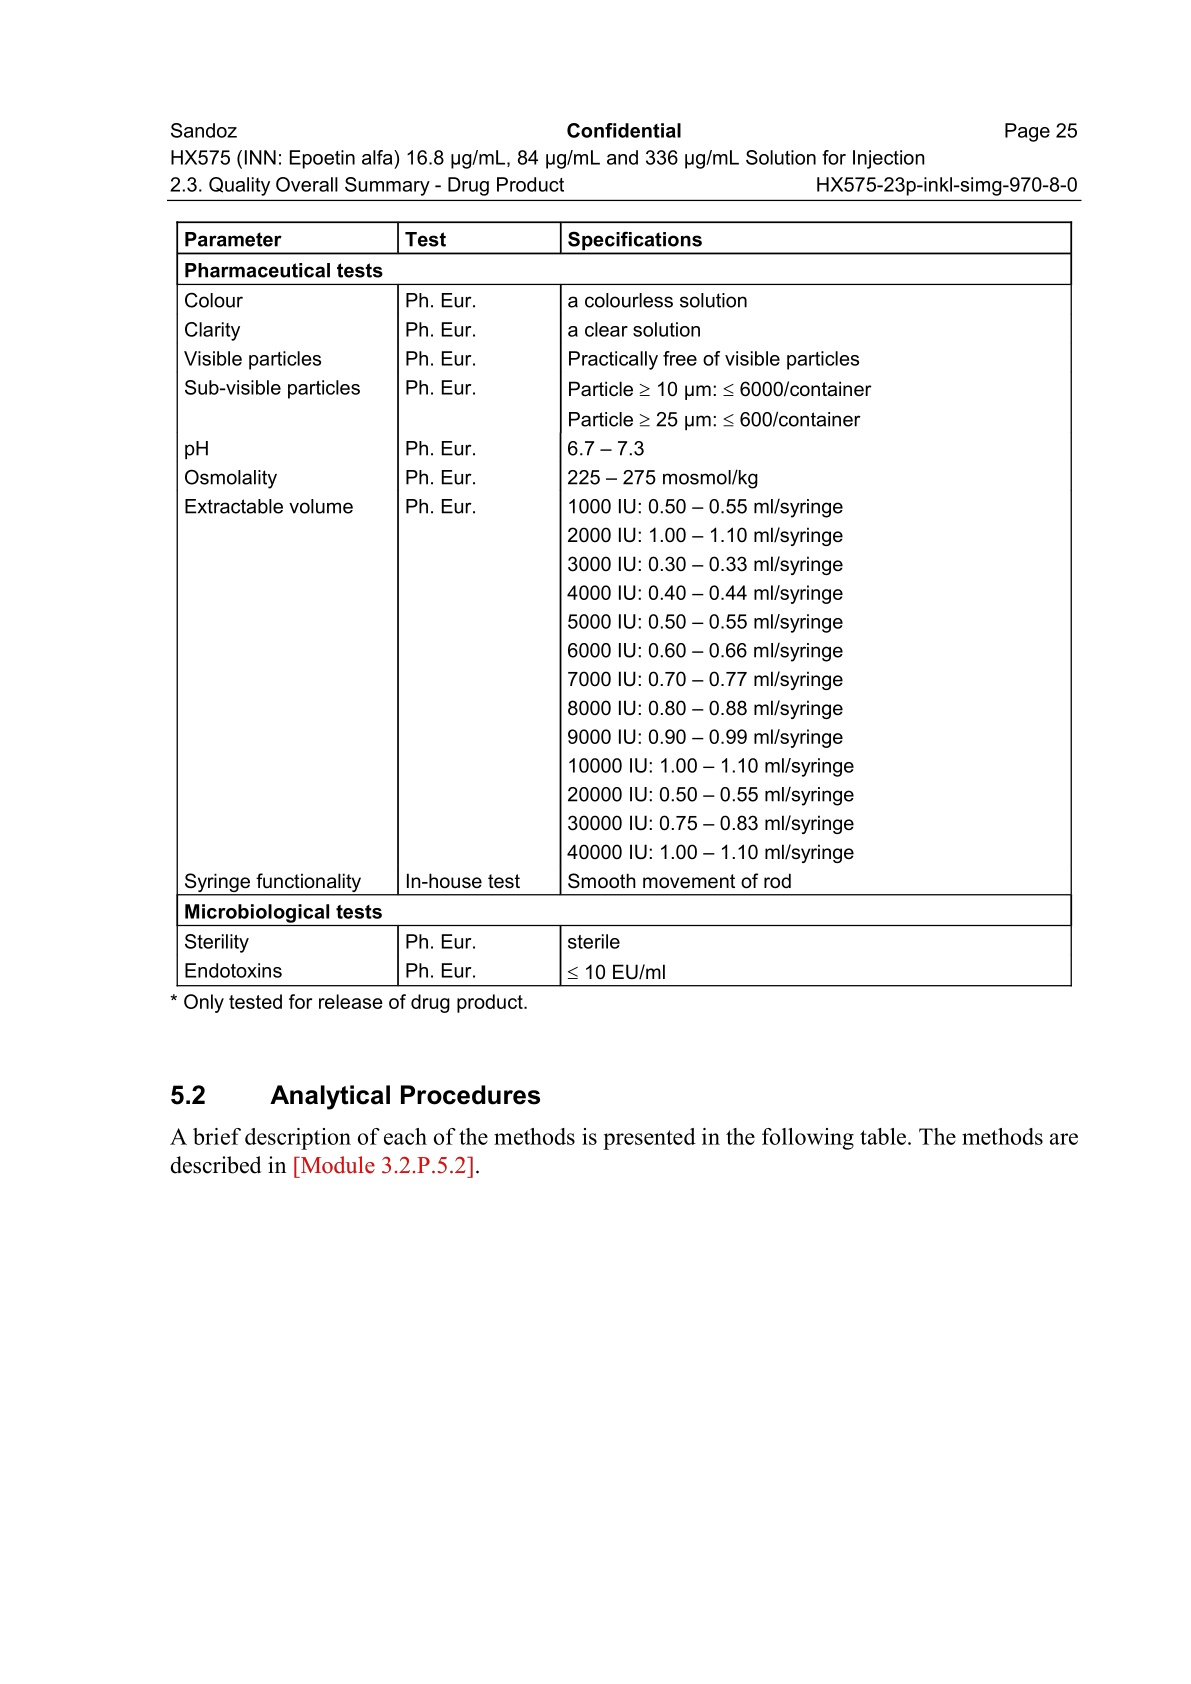merged_cells: (177, 222, 1072, 987)
